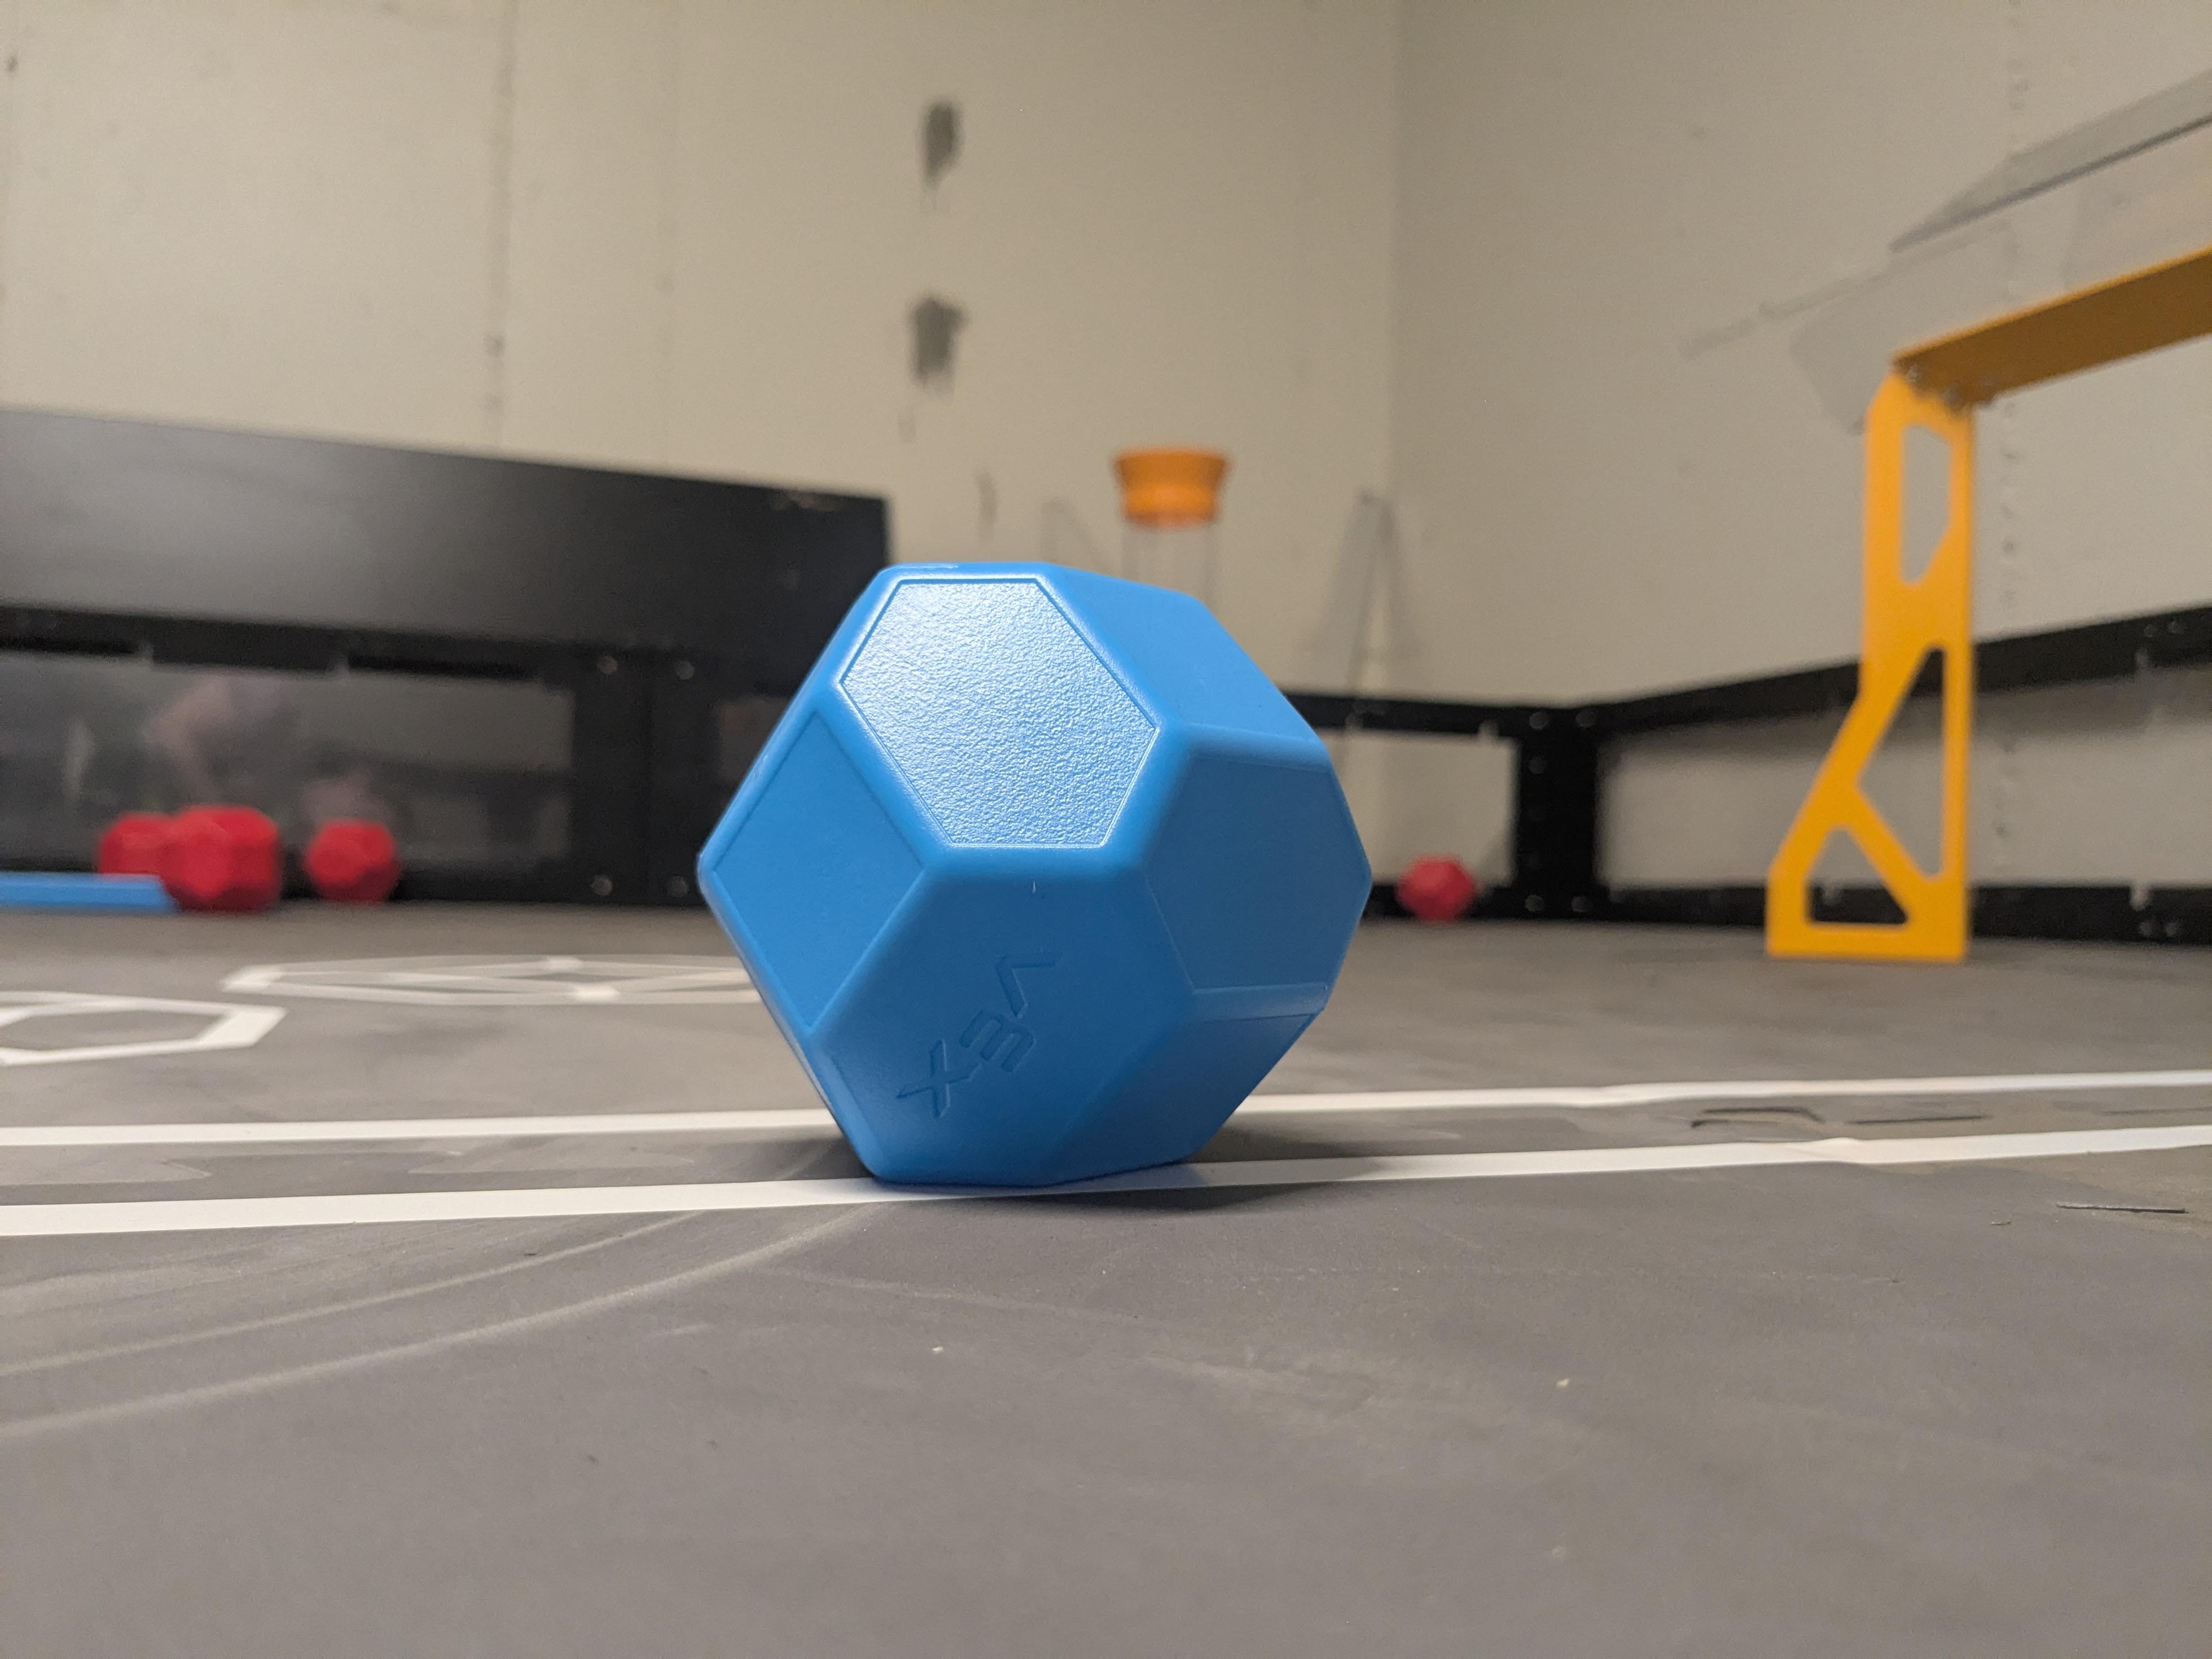Vex-Pieces-BLUE: (709, 559, 1372, 1204)
